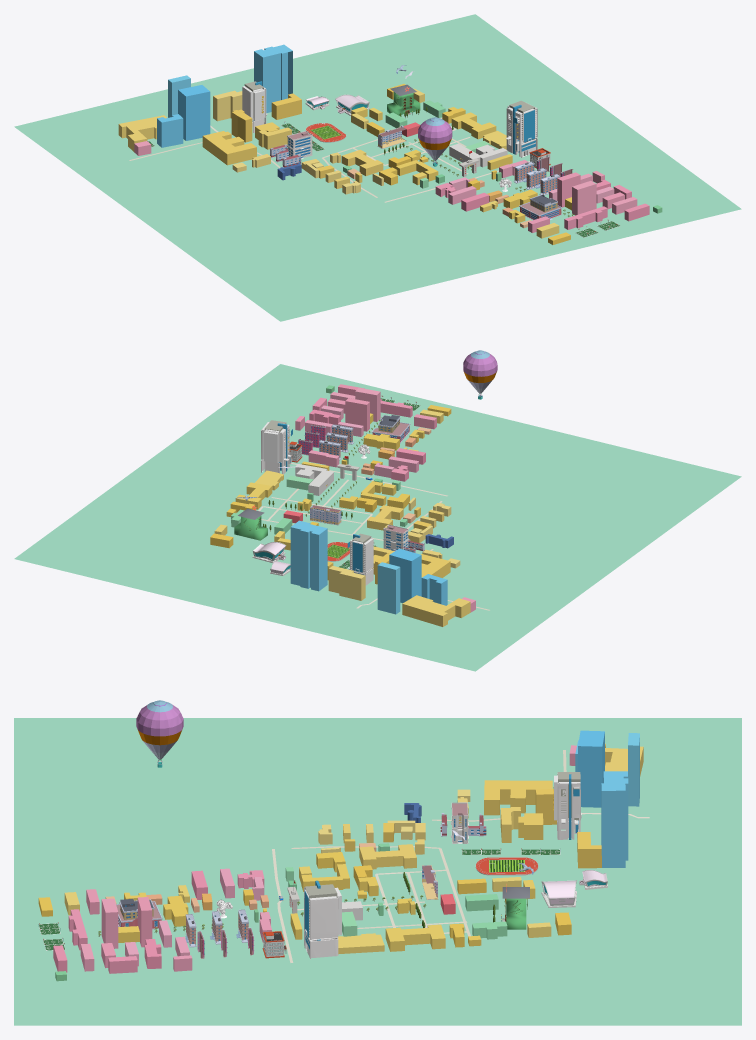
The model's file is NJUmap_compressed.glb.
3 renders of one model, top to bottom at view 1: azimuth 30°, elevation 25°; view 2: azimuth 150°, elevation 25°; view 3: azimuth 270°, elevation 25°, orthographic. The views are drawn at different scales.
Parts seen in each view (by area): view 1: ground, 费彝民楼B栋, 安中楼, 唐仲英楼, balloon, 中美文化研究中心, 曾宪梓楼, 图书馆, 陶园3舍, 实验楼, body.002, 东南楼 (+9 smaller); view 2: ground, 费彝民楼B栋, 中美文化研究中心, 安中楼, 科学楼, balloon, 实验楼, 图书馆, 曾宪梓楼, 陶园2舍, 北大楼, 西南楼 (+3 smaller); view 3: ground, 费彝民楼B栋, balloon, 安中楼, body.002, 唐仲英楼, 东南楼, 西南楼, NJU_操场, body.001, 科学楼, 科技馆 (+15 smaller).
Part boxes in pixels (x1,y1,x2,y2): ground: (14, 14, 741, 321); 费彝民楼B栋: (254, 44, 292, 113); 安中楼: (178, 85, 210, 140); 唐仲英楼: (202, 131, 256, 165); balloon: (418, 117, 452, 166); 中美文化研究中心: (118, 115, 166, 151); 曾宪梓楼: (157, 114, 183, 147); 图书馆: (449, 143, 507, 167); 陶园3舍: (572, 181, 596, 215); 实验楼: (213, 90, 242, 121); body.002: (506, 107, 537, 156); 东南楼: (451, 112, 496, 139); ground: (14, 364, 741, 671); 费彝民楼B栋: (290, 520, 327, 591); 中美文化研究中心: (402, 595, 470, 626); 安中楼: (389, 548, 421, 603); 科学楼: (377, 562, 400, 614); balloon: (463, 350, 497, 399); 实验楼: (328, 566, 365, 600); 图书馆: (295, 464, 333, 495); 曾宪梓楼: (421, 574, 447, 605); 陶园2舍: (345, 398, 369, 431); 北大楼: (234, 515, 267, 540); 西南楼: (367, 505, 403, 530); ground: (14, 718, 741, 1025); 费彝民楼B栋: (601, 771, 628, 867); balloon: (136, 700, 183, 767); 安中楼: (578, 730, 604, 807); body.002: (304, 887, 339, 958); 唐仲英楼: (484, 780, 552, 815); 东南楼: (385, 924, 445, 951); 西南楼: (359, 844, 416, 869); NJU_操场: (475, 857, 538, 875); body.001: (557, 773, 580, 839); 科学楼: (628, 733, 639, 806); 科技馆: (338, 933, 384, 954).
Size of the model in its own units: 250 by 61.3 by 250.
Materials: 246 (2 with a texture image).
